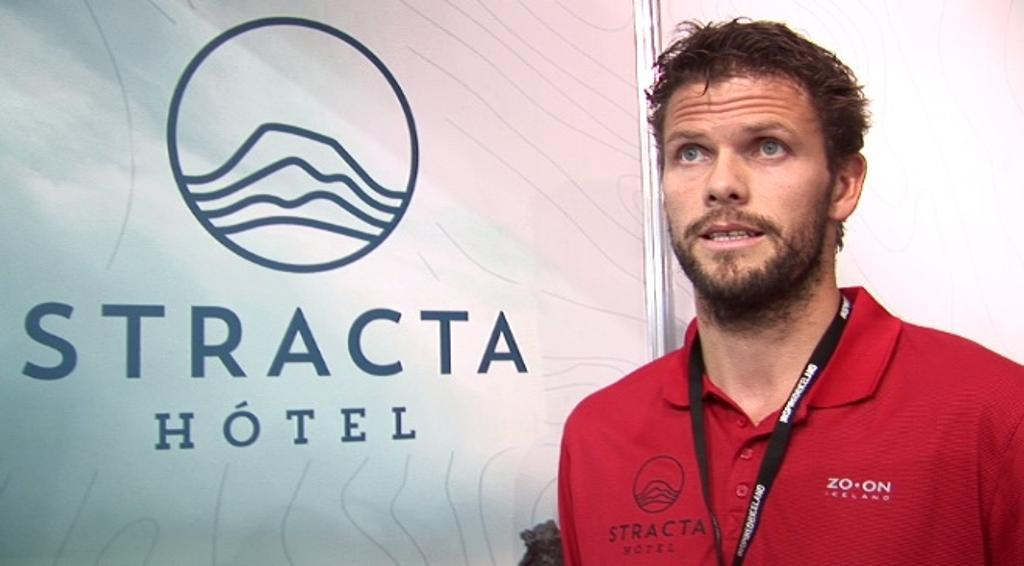face: (667, 77, 825, 313)
